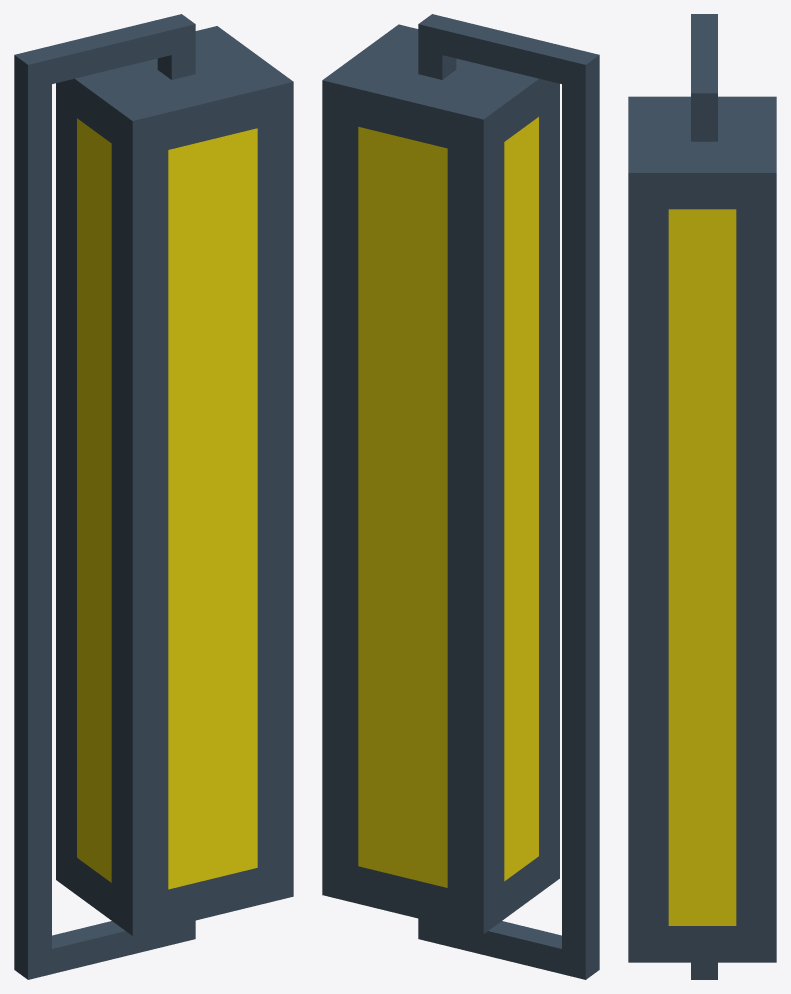
The model's file is Neon_light_3.FBX.
3 renders of one model, left to right at view 1: azimuth 30°, elevation 25°; view 2: azimuth 150°, elevation 25°; view 3: azimuth 270°, elevation 25°, orthographic. The views are drawn at different scales.
Visible parts, largest first — view 1: Neon_light_3; view 2: Neon_light_3; view 3: Neon_light_3.
Part boxes in pixels (bbox=[...]): Neon_light_3: bbox=[14, 14, 293, 979]; Neon_light_3: bbox=[322, 14, 599, 979]; Neon_light_3: bbox=[628, 14, 776, 979].
Bounding box in the file's own units: 9.79 × 36.71 × 5.55.
1 material, 1 textured.
